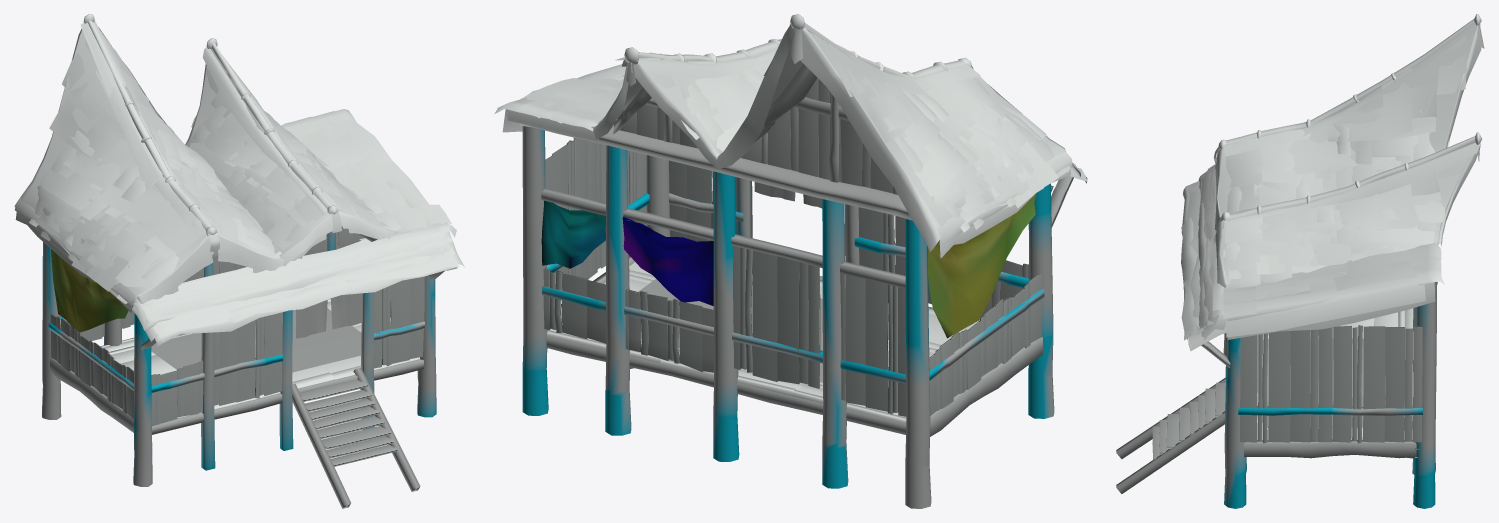
3 renders of one model, left to right at view 1: azimuth 30°, elevation 25°; view 2: azimuth 150°, elevation 25°; view 3: azimuth 270°, elevation 25°, orthographic. The views are drawn at different scales.
Parts seen in each view (by area): view 1: G:\FFXIV-MapTools\exports\m5f1\bg\ex4\02_mid_m5\fld\m5f1\bgp (×7); view 2: G:\FFXIV-MapTools\exports\m5f1\bg\ex4\02_mid_m5\fld\m5f1\bgp (×7); view 3: G:\FFXIV-MapTools\exports\m5f1\bg\ex4\02_mid_m5\fld\m5f1\bgp (×6).
Part boxes in pixels (x1,y1,x2,y2): G:\FFXIV-MapTools\exports\m5f1\bg\ex4\02_mid_m5\fld\m5f1\bgp (×7): (14,14,464,508); G:\FFXIV-MapTools\exports\m5f1\bg\ex4\02_mid_m5\fld\m5f1\bgp (×7): (494,14,1087,508); G:\FFXIV-MapTools\exports\m5f1\bg\ex4\02_mid_m5\fld\m5f1\bgp (×6): (1116,14,1484,508).
Bounding box in the file's own units: 17.48 × 19.22 × 15.98.
